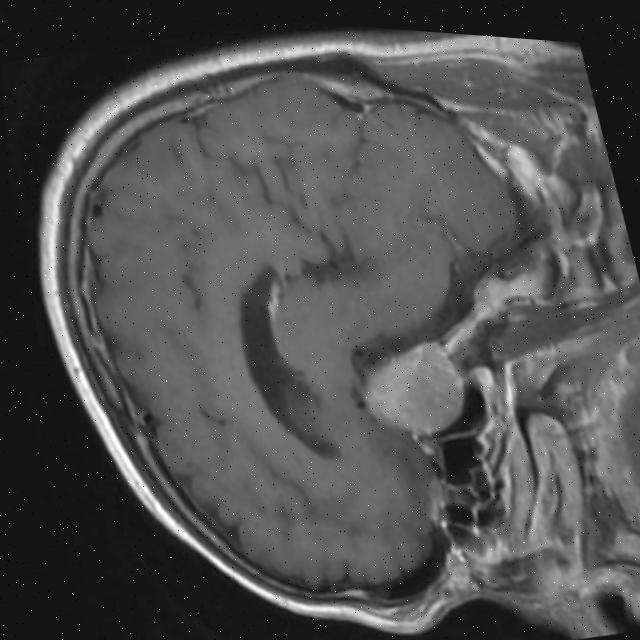Pituitary: (347, 328, 473, 447)
